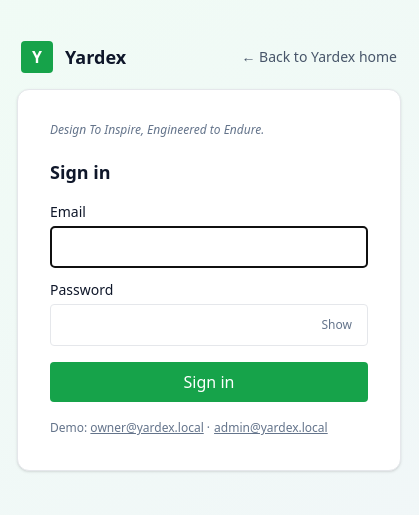
Test: LoginPage › shows the API error message when login fails
Type "a@b.co" into the field labelled "Email" at (209, 247), box [50,226,368,268]
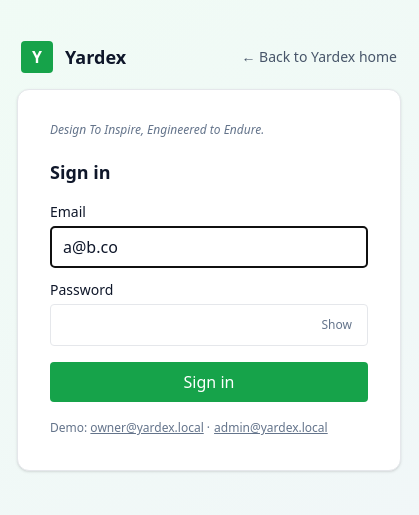
Type "wrong-pass" into the password field labelled "Password" at (209, 325), box [50,304,368,346]
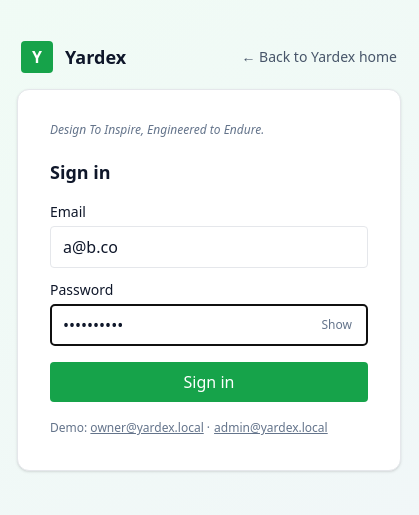
Click the button "Sign in" at (209, 382), box [50,362,368,402]
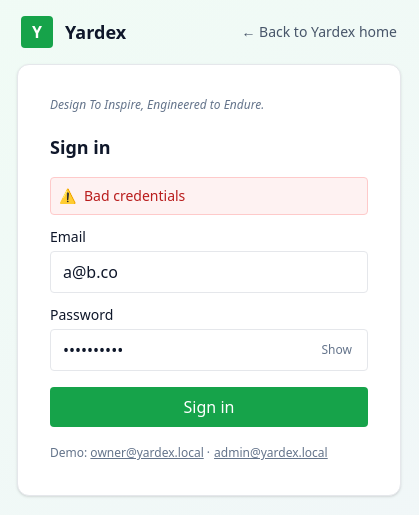
Expected: the button "Sign in" is enabled, [50,387,368,427]
Result: the message shows "Bad credentials" at [84,186,185,205]
